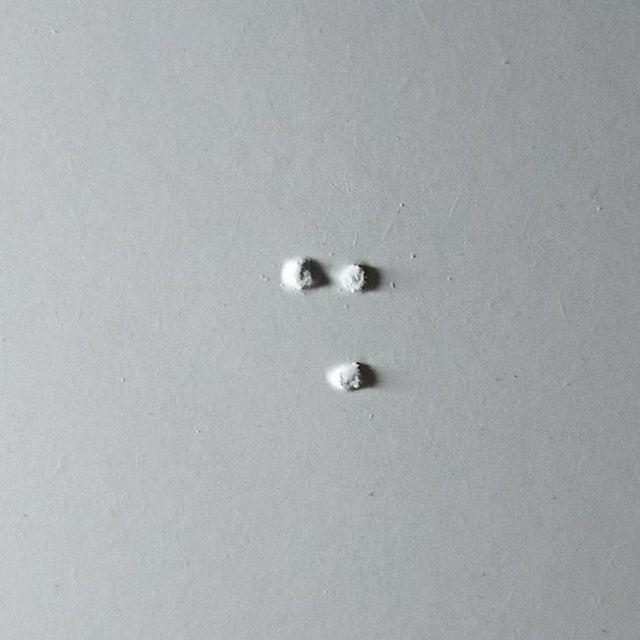mag: (282, 256, 382, 391)
